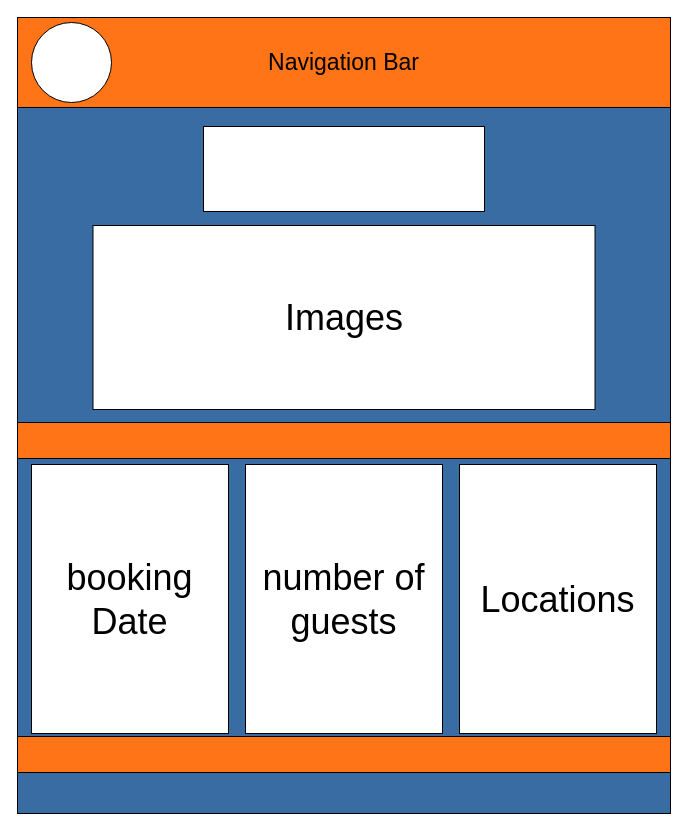
Image size: 688x831. Some labels were removed from this diagram. Each missing label, with the centre of its shape:
"Activities We Offer" goes at [343,169].
"Logo" goes at [71,62].
